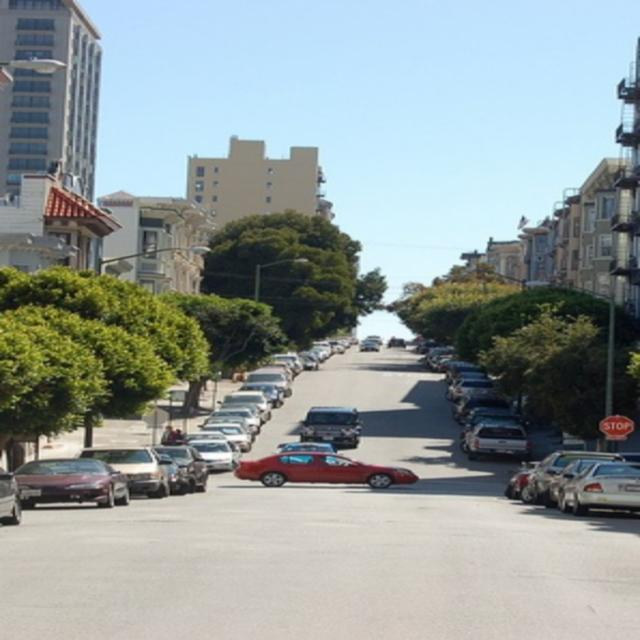car: (150, 331, 406, 493), (229, 449, 416, 486), (515, 448, 623, 503), (10, 457, 126, 507), (68, 444, 170, 498), (552, 458, 638, 515), (294, 406, 361, 448), (456, 420, 530, 458), (447, 392, 507, 425), (180, 438, 238, 471), (460, 404, 526, 428), (241, 370, 294, 395), (440, 376, 496, 399), (0, 466, 17, 523)
